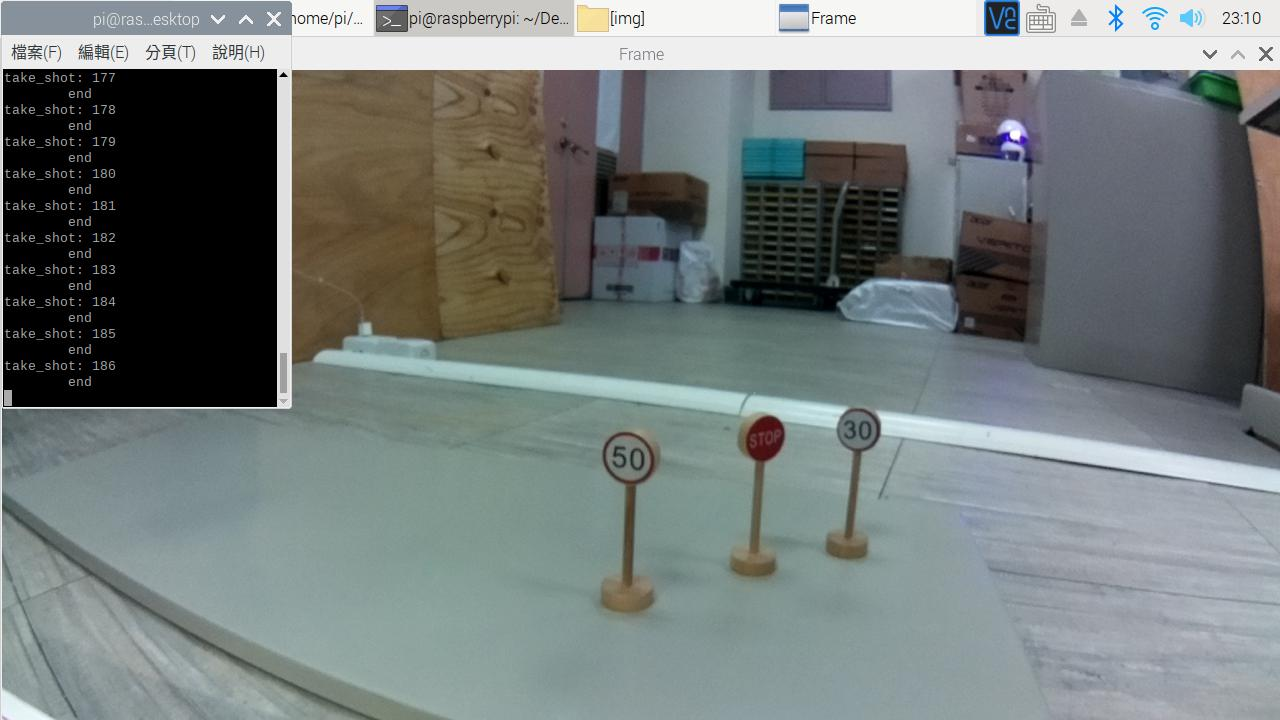Speed30: (829, 394, 895, 464)
Speed50: (590, 427, 674, 491)
Stop: (731, 408, 786, 465)
